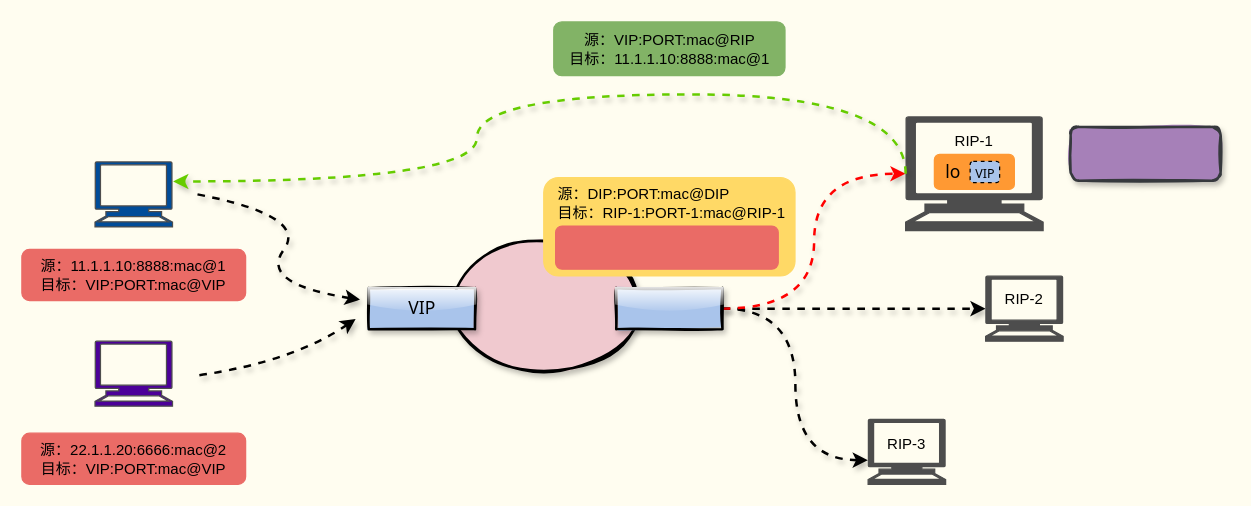
The diagram is 1251 pixels wide and 506 high, and some of its shapes have lost their labels. Each missing label, with the centre of its shape:
"DIP" goes at (670,309).
"TCP 连接 VIP - CIP" goes at (1146,155).
"TUNNEL" goes at (546,307).
"源： 11.1.1.10:8888 :mac@1 目标：VIP:PORT:mac@V IP" goes at (666,247).
